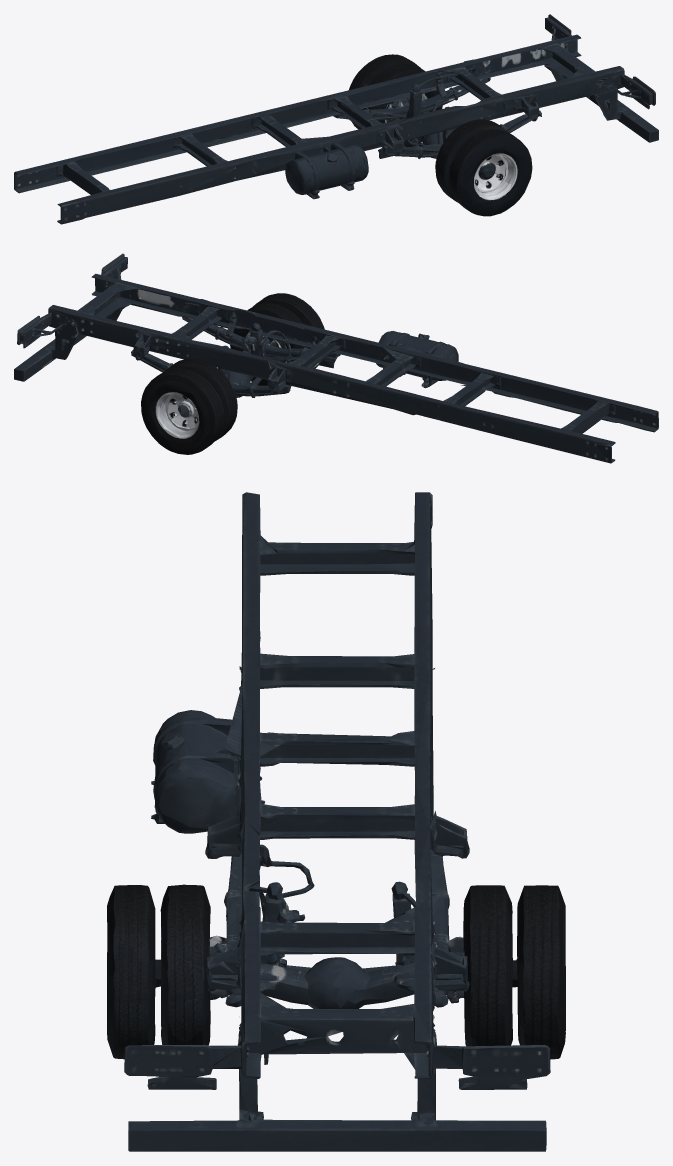
File: cargo-truck-underbody-v2-web.glb
3 views of the same model, one above another, from view 1: azimuth 30°, elevation 25°; view 2: azimuth 150°, elevation 25°; view 3: azimuth 270°, elevation 25° (orthographic). The views are drawn at different scales.
Parts seen in each view (by area): view 1: output_unwrapped; view 2: output_unwrapped; view 3: output_unwrapped.
Part boxes in pixels (box(x1,y1,x2,y2)): output_unwrapped: box(14, 14, 658, 224); output_unwrapped: box(14, 253, 658, 463); output_unwrapped: box(107, 492, 565, 1151).
Size of the model in its own units: 1.9 by 0.2764 by 0.6646.
Materials: 1 (1 with a texture image).
